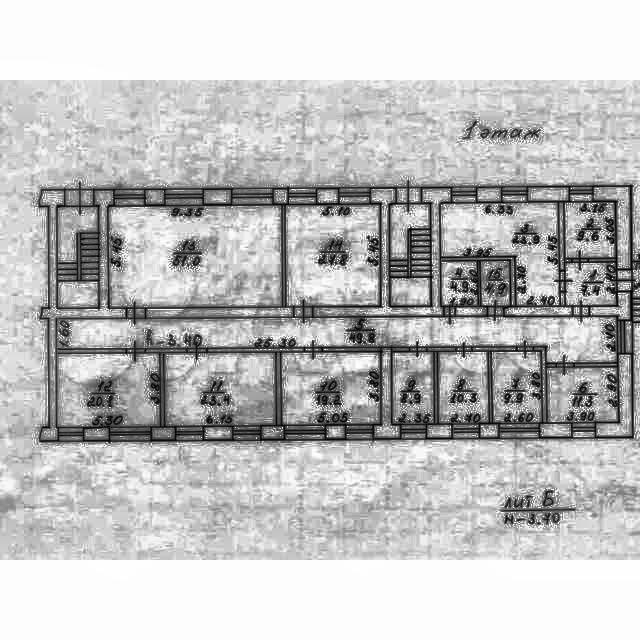room: (56, 313, 617, 363), (110, 206, 282, 306), (440, 202, 560, 307), (285, 203, 381, 304), (166, 352, 277, 424), (57, 352, 160, 426), (282, 352, 380, 423), (57, 207, 100, 307), (391, 204, 428, 306), (548, 369, 618, 421), (438, 352, 489, 422), (493, 352, 539, 421), (394, 353, 435, 423), (566, 202, 614, 256), (566, 263, 616, 304), (442, 261, 477, 305), (481, 260, 509, 305)
